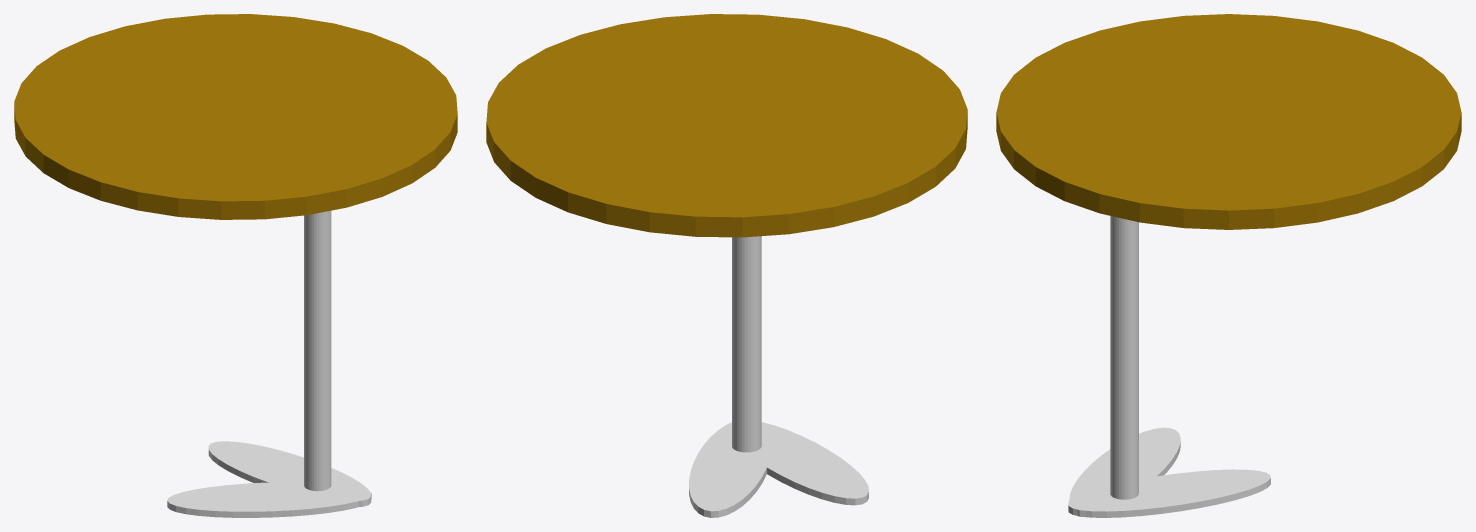
The model's file is smallTable.fbx.
3 views of the same model, side by side, from view 1: azimuth 30°, elevation 25°; view 2: azimuth 150°, elevation 25°; view 3: azimuth 270°, elevation 25° (orthographic). The views are drawn at different scales.
Visible parts, largest first — view 1: Cylinder.005; view 2: Cylinder.005; view 3: Cylinder.005.
Boxes of the visible parts, box(x1,y1,x2,y2) form: Cylinder.005: box(14, 14, 457, 517); Cylinder.005: box(486, 14, 967, 517); Cylinder.005: box(996, 14, 1461, 517).
Size of the model in its own units: 130 by 115 by 130.
